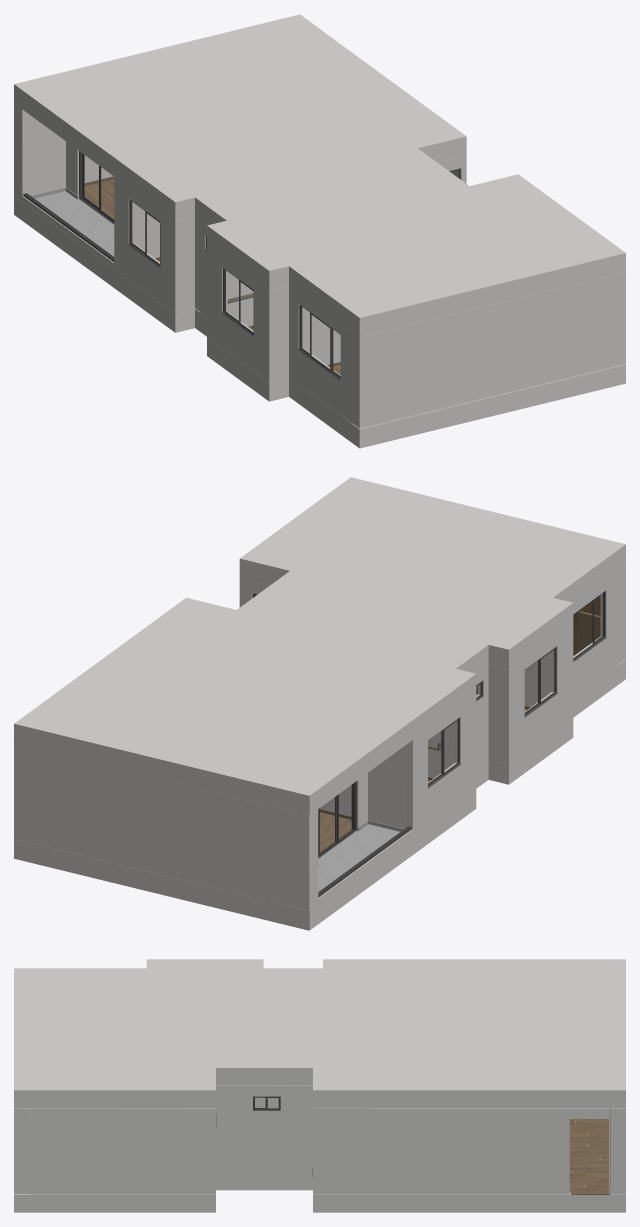
Rendered from apto-tipo.glb.
3 renders of one model, top to bottom at view 1: azimuth 30°, elevation 25°; view 2: azimuth 150°, elevation 25°; view 3: azimuth 270°, elevation 25°, orthographic. The views are drawn at different scales.
Visible parts, largest first — view 1: Ceiling, Arch_007, Base_Floor, Arch_018, Arch_015, Arch_017, Arch_004, Floor_006, Arch_016, Floor_005, Arch_019, Window_003 (+4 smaller); view 2: Ceiling, Arch_004, Base_Floor, Arch_018, Arch_015, Arch_017, Arch_016, Floor_006, Arch_008, Panels, Arch_005, Arch_007 (+3 smaller); view 3: Ceiling, Arch_003, Arch_011, Base_Floor, Arch_022, Floor_005, Arch_004, Arch_007.
Part boxes in pixels (x1,y1,x2,y2): Ceiling: [14, 14, 625, 336]; Arch_007: [351, 272, 625, 428]; Base_Floor: [14, 196, 625, 448]; Arch_018: [207, 245, 288, 382]; Arch_015: [114, 177, 194, 313]; Arch_017: [289, 285, 351, 422]; Arch_004: [14, 103, 113, 201]; Floor_006: [35, 191, 114, 256]; Arch_016: [134, 203, 159, 258]; Floor_005: [84, 179, 340, 374]; Arch_019: [230, 273, 253, 326]; Window_003: [298, 304, 340, 380]; Ceiling: [14, 477, 625, 815]; Arch_004: [14, 743, 318, 910]; Base_Floor: [14, 659, 625, 930]; Arch_018: [488, 623, 573, 764]; Arch_015: [407, 694, 476, 834]; Arch_017: [524, 571, 617, 707]; Arch_016: [320, 744, 407, 828]; Floor_006: [318, 824, 399, 891]; Arch_008: [476, 665, 488, 768]; Panels: [573, 595, 600, 655]; Arch_005: [428, 724, 452, 778]; Arch_007: [617, 564, 625, 664]; Ceiling: [14, 959, 625, 1107]; Arch_003: [313, 1108, 609, 1194]; Arch_011: [30, 1108, 215, 1194]; Base_Floor: [14, 1120, 625, 1212]; Arch_022: [216, 1085, 312, 1172]; Floor_005: [569, 1119, 609, 1194]; Arch_004: [610, 1108, 625, 1194]; Arch_007: [14, 1108, 29, 1194].
Size of what is drawn, in the model's own units: 7.84 by 3.41 by 15.45.
Materials: 30 (11 with a texture image).
